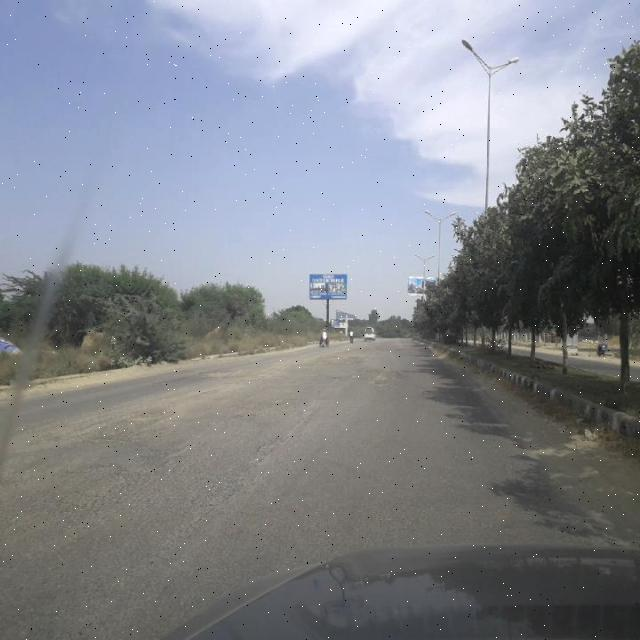D20: (11, 405, 302, 631)
D40: (2, 460, 135, 514), (43, 396, 166, 446), (354, 358, 404, 386), (194, 362, 244, 389), (250, 436, 278, 458)
